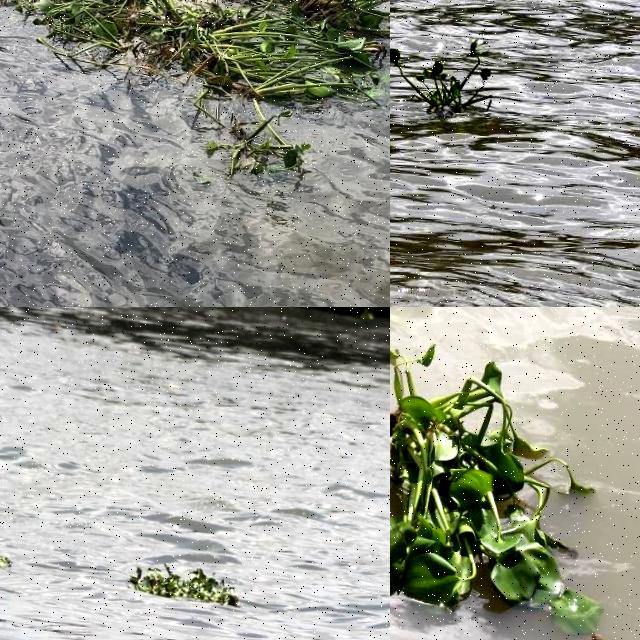water-hyacinth: (1, 1, 391, 188), (391, 330, 605, 632), (391, 34, 499, 118), (130, 560, 240, 613)
